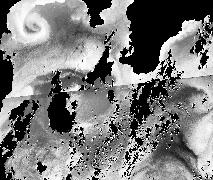CE: (9, 6, 53, 47)
